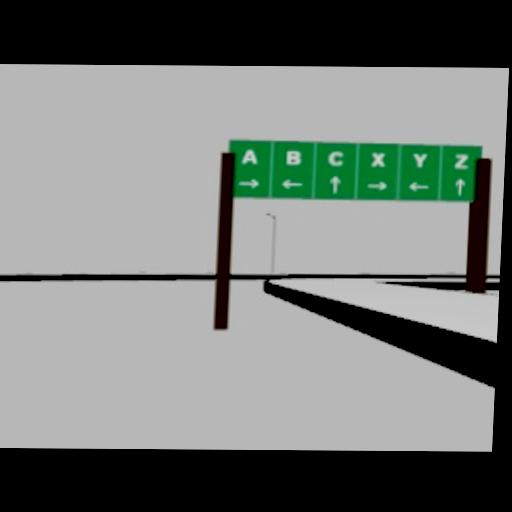A: (240, 148, 257, 164)
B: (285, 150, 301, 164)
C: (327, 148, 344, 167)
Left: (280, 178, 304, 189), (408, 181, 430, 192)
Right: (237, 177, 259, 188), (365, 180, 389, 189)
Straight: (454, 177, 466, 196), (328, 174, 340, 193)
X: (370, 152, 384, 166)
Y: (411, 151, 427, 167)
Z: (454, 152, 468, 169)
